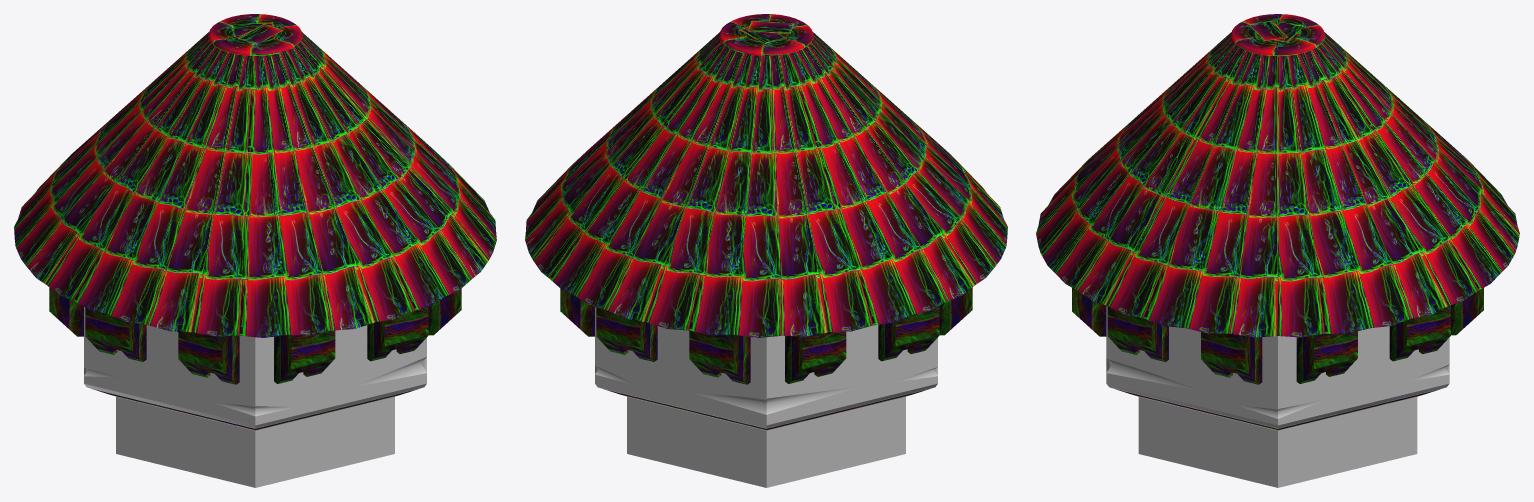
The model's file is SM_Hero_Tower_Top.fbx.
3 renders of one model, left to right at view 1: azimuth 30°, elevation 25°; view 2: azimuth 150°, elevation 25°; view 3: azimuth 270°, elevation 25°, orthographic.
Visible parts, largest first — view 1: SM_Hero_Tower_Top_LOD0; view 2: SM_Hero_Tower_Top_LOD0; view 3: SM_Hero_Tower_Top_LOD0.
Boxes of the visible parts, bbox=[...] form: SM_Hero_Tower_Top_LOD0: bbox=[14, 14, 496, 487]; SM_Hero_Tower_Top_LOD0: bbox=[525, 14, 1007, 487]; SM_Hero_Tower_Top_LOD0: bbox=[1036, 14, 1519, 487].
Size of the model in its own units: 1120 by 1120 by 993.
3 materials, 2 textured.
